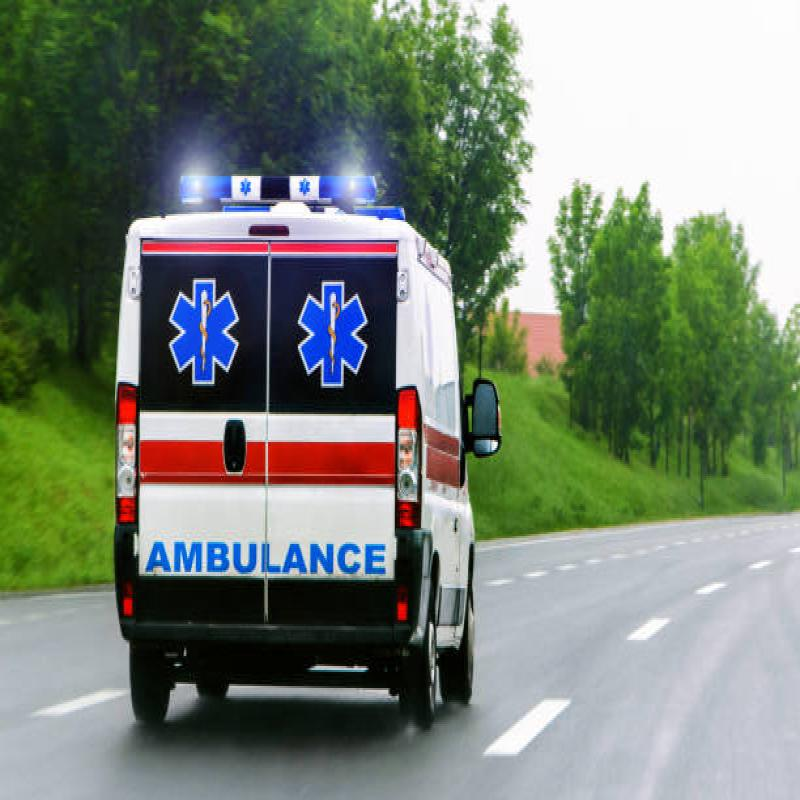ambulance: (101, 150, 505, 752)
